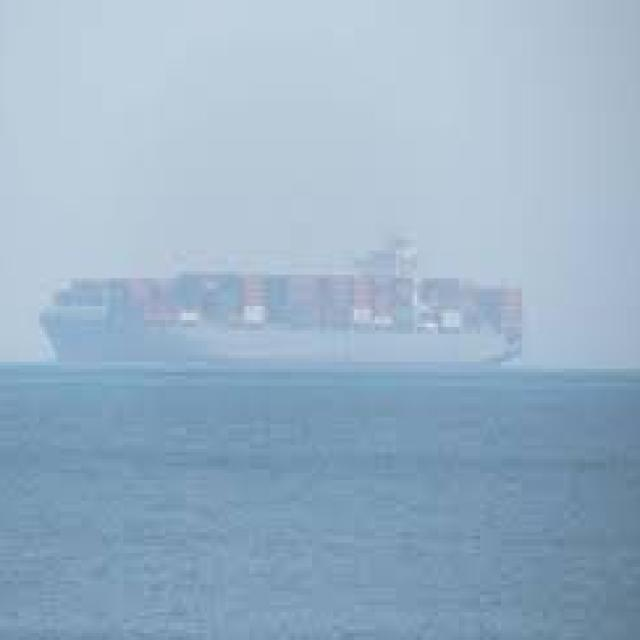cargoship: (36, 229, 524, 364)
